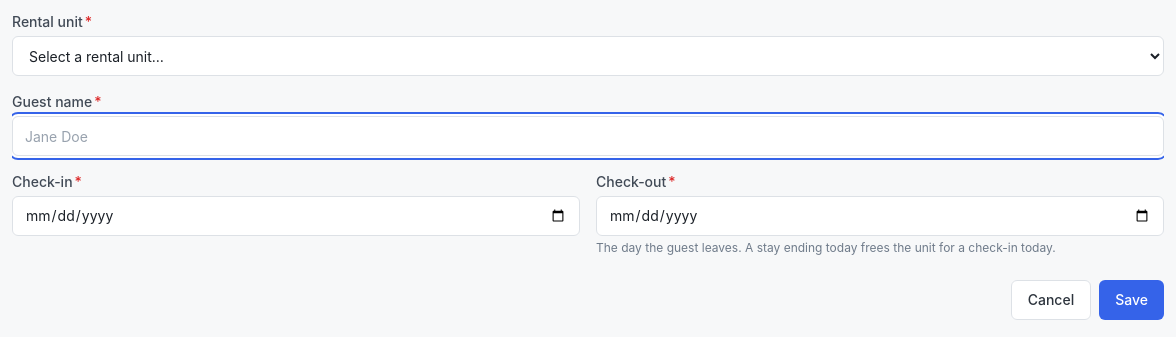
Scenario: ReservationForm — client-side validation › refuses to send a stay that ends before it starts
Select "Seaside flat" in the dropdown labelled "Rental unit*" at {"x": 588, "y": 56}, box [12,36,1164,76]
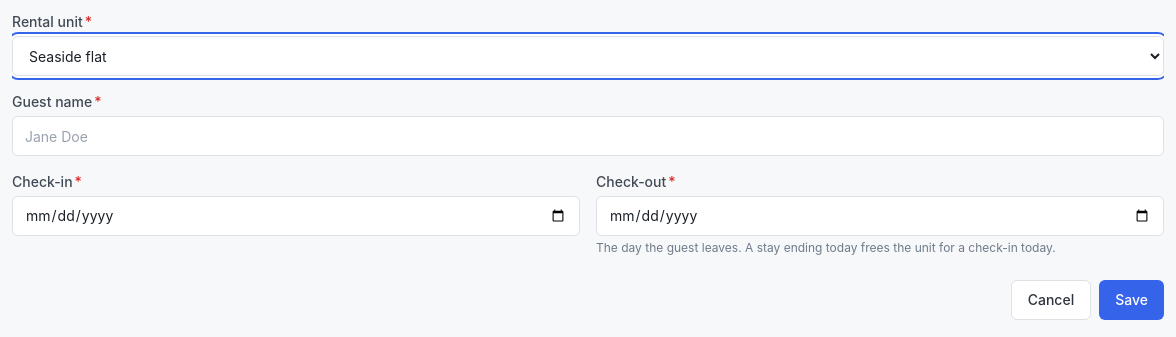
Type "Sam Patel" into the field labelled "Guest name*" at {"x": 588, "y": 136}, box [12,116,1164,156]
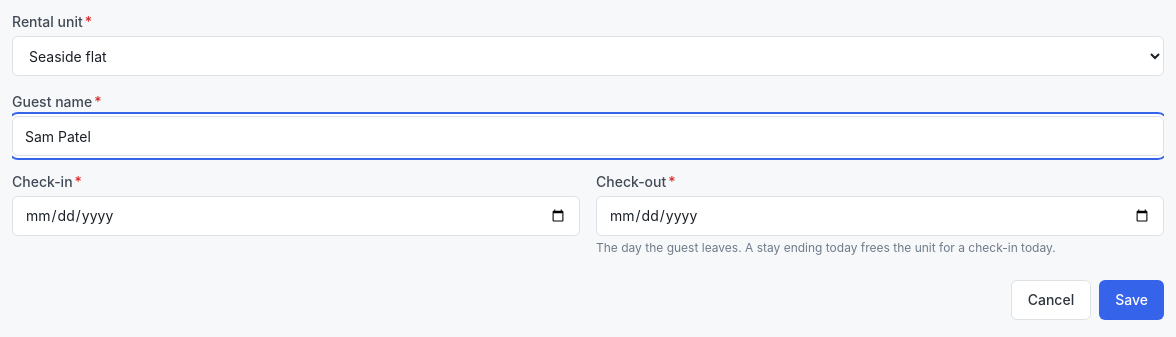
Type "2026-03-15" into the date field labelled "Check-in*" at {"x": 296, "y": 216}, box [12,196,580,236]
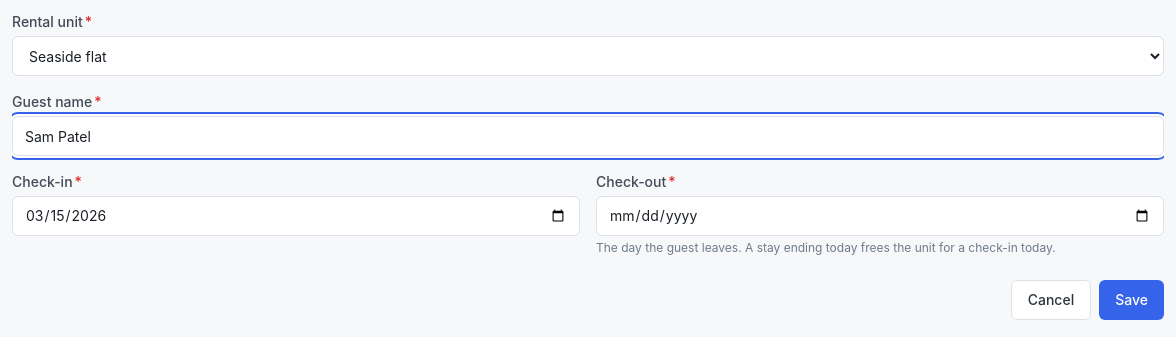
Type "2026-03-12" into the date field labelled "Check-out*" at {"x": 880, "y": 216}, box [596,196,1164,236]
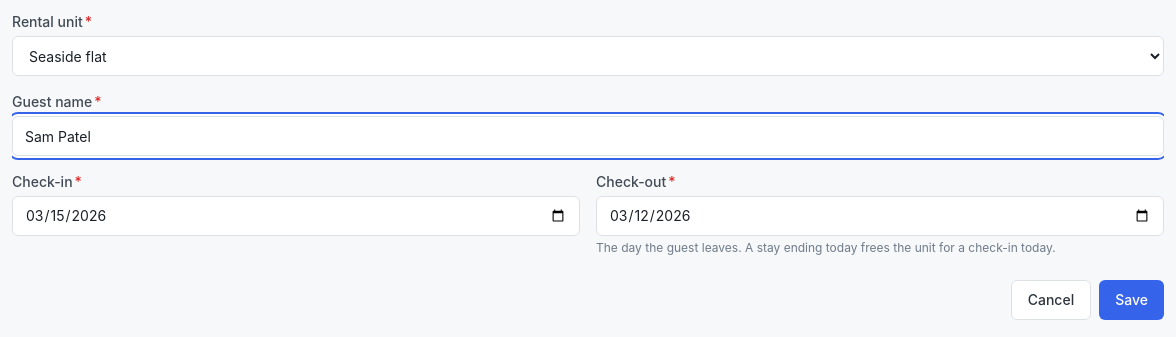
Click the button "Save" at {"x": 1132, "y": 300}, box [1099,280,1164,320]
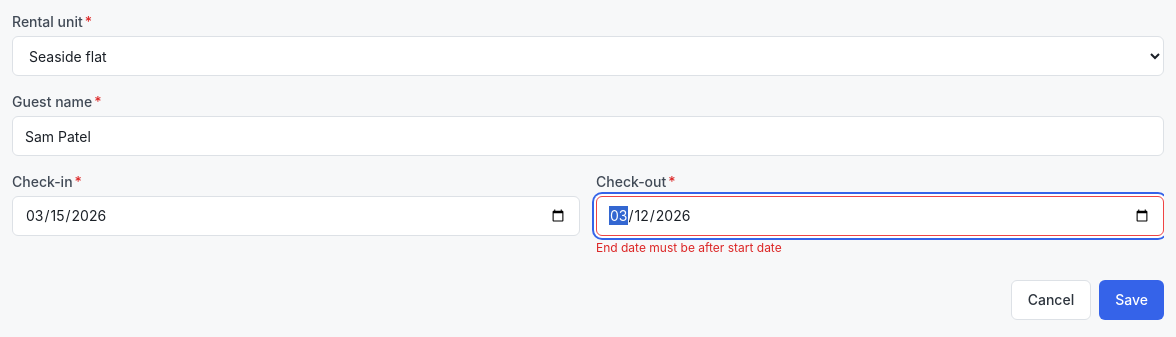
Expected: the text "End date must be after start date" is shown, [596,240,782,255]
